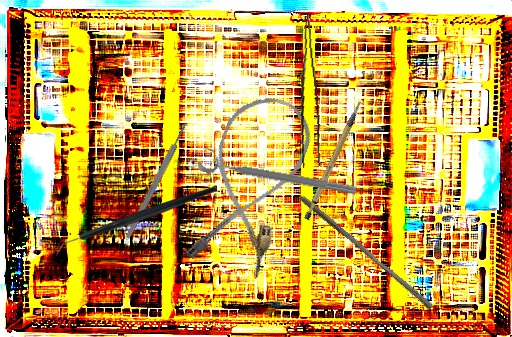Cannula: (179, 85, 321, 283)
Chopper: (56, 184, 217, 258)
Fixation Ring: (196, 145, 360, 199)
Pusher: (294, 194, 438, 311)
Scalpel Handle: (288, 99, 381, 222), (124, 123, 189, 240)
Tissue Forceps: (287, 15, 325, 168)
